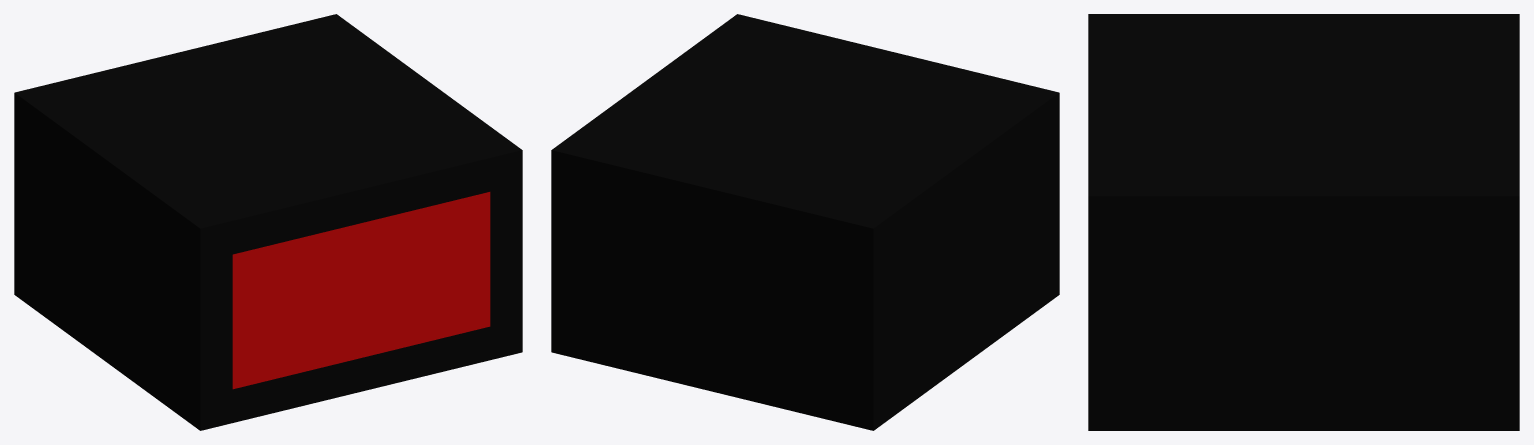
The model's file is test_room_01.obj.
3 renders of one model, left to right at view 1: azimuth 30°, elevation 25°; view 2: azimuth 150°, elevation 25°; view 3: azimuth 270°, elevation 25°, orthographic. The views are drawn at different scales.
Parts seen in each view (by area): view 1: wall, fen; view 2: wall; view 3: wall.
Boxes of the visible parts, box(x1,y1,x2,y2) form: wall: box(14, 14, 522, 430); fen: box(232, 192, 490, 389); wall: box(551, 14, 1059, 430); wall: box(1088, 14, 1519, 430).
Bounding box in the file's own units: 5 × 3 × 5.
